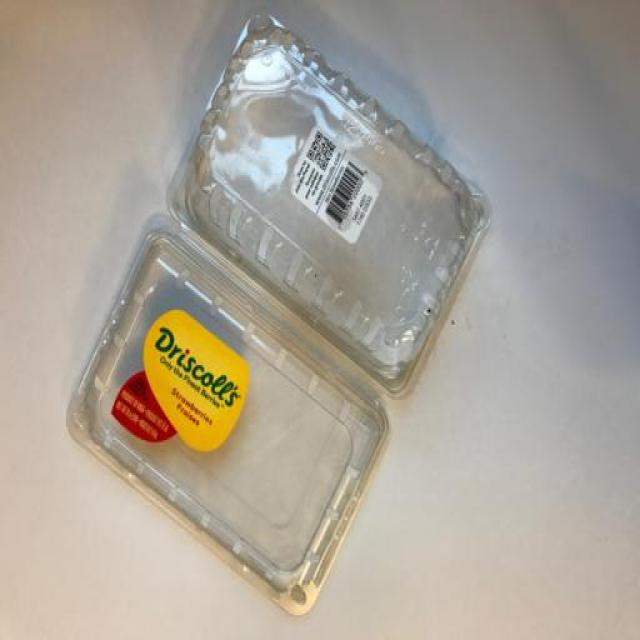plastic: (52, 14, 518, 626)
